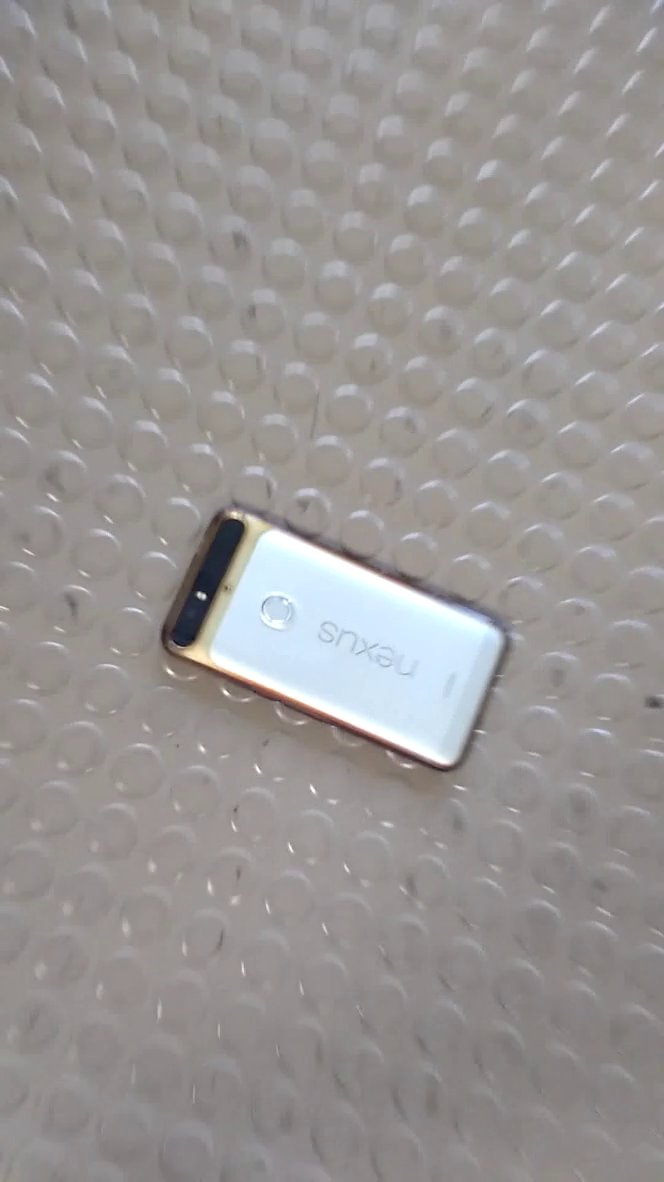phone: (140, 496, 531, 779)
